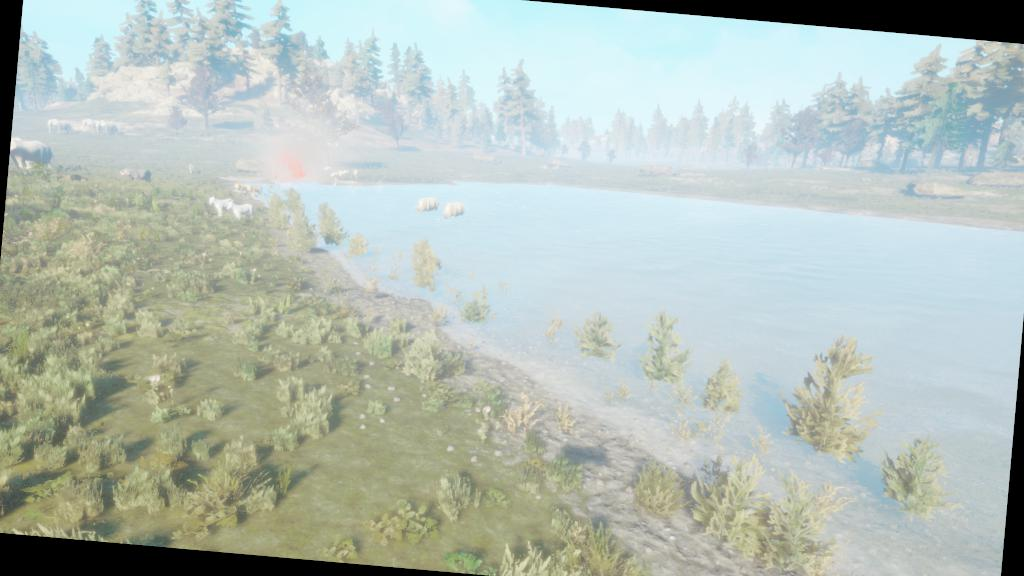Fire: (270, 144, 310, 182)
hippopotamus: (116, 164, 154, 186)
human: (186, 160, 196, 177), (348, 180, 359, 194), (333, 176, 341, 190), (375, 180, 384, 192), (352, 166, 360, 179)
lion: (233, 182, 255, 198), (244, 183, 263, 197)
pig: (322, 164, 334, 172), (339, 169, 350, 176), (330, 171, 340, 178)
rhinoceros: (413, 192, 441, 217), (440, 198, 468, 222)
smoke: (254, 131, 330, 188)
zebra: (206, 193, 238, 219), (224, 198, 256, 222)
